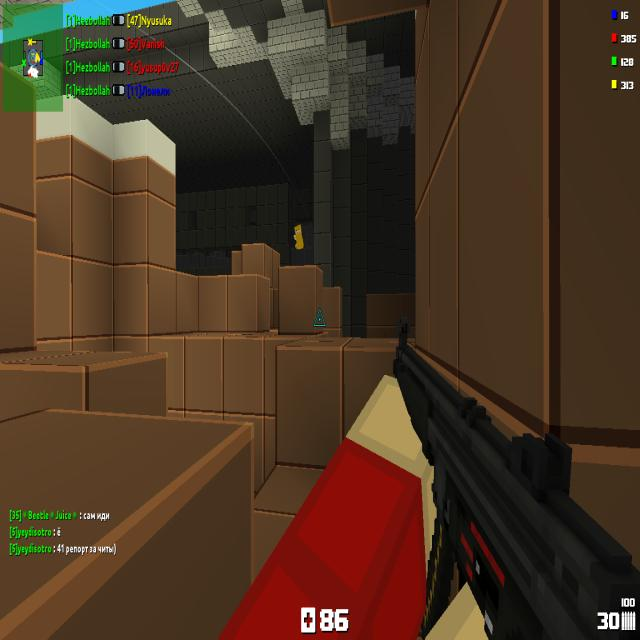enemy: (294, 224, 304, 249)
